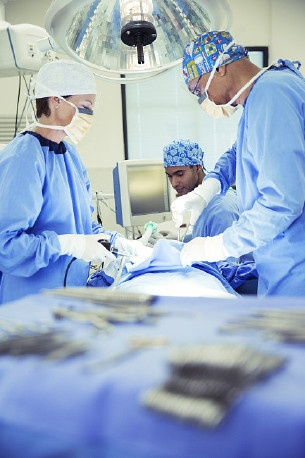Mask: (60, 95, 107, 142)
